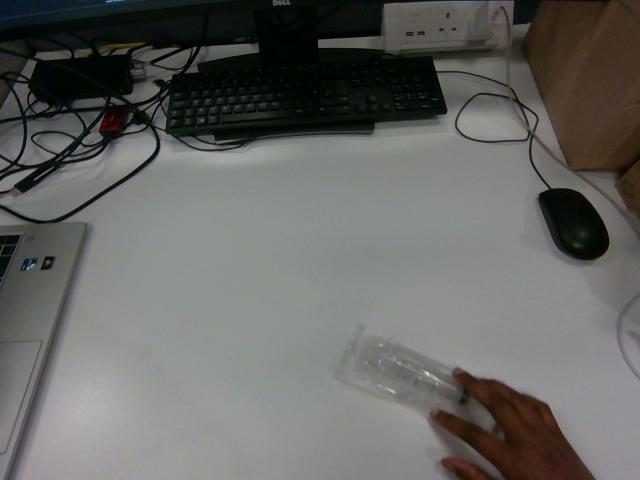syringe: (334, 326, 494, 430)
